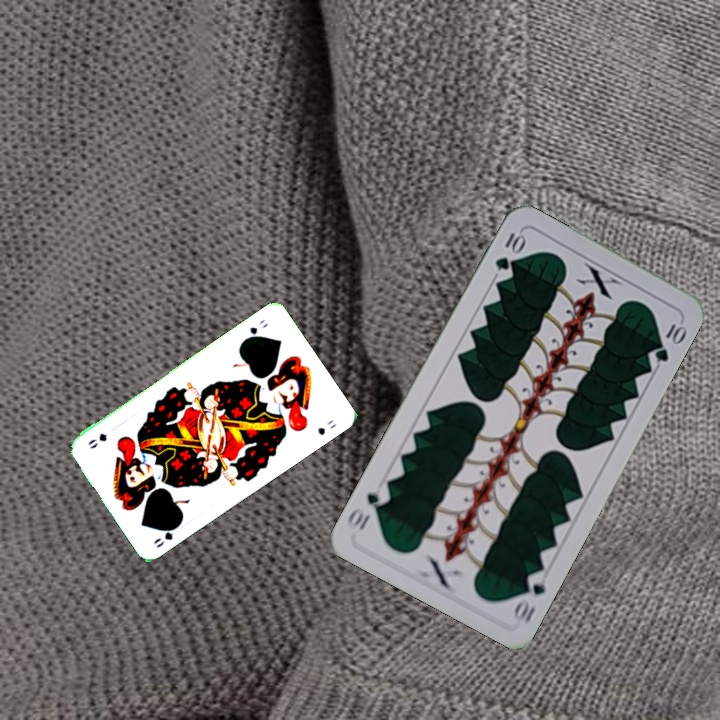G10: (509, 566, 550, 628), (491, 228, 528, 274)
GO: (150, 519, 183, 550), (239, 315, 271, 344)
